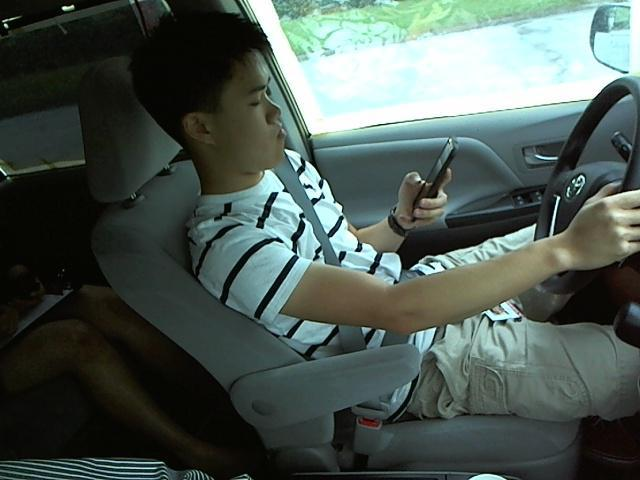c1 - Texting: (123, 7, 635, 341)
